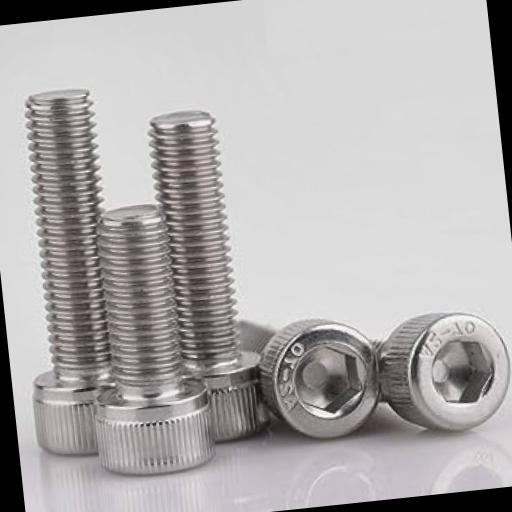Hex-Allen: (251, 311, 384, 452), (375, 307, 512, 440)
